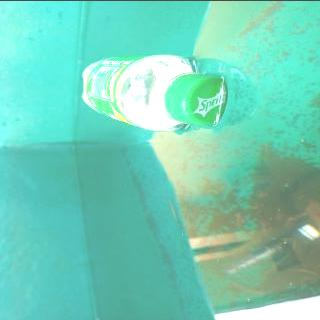bottle: (81, 54, 228, 128)
